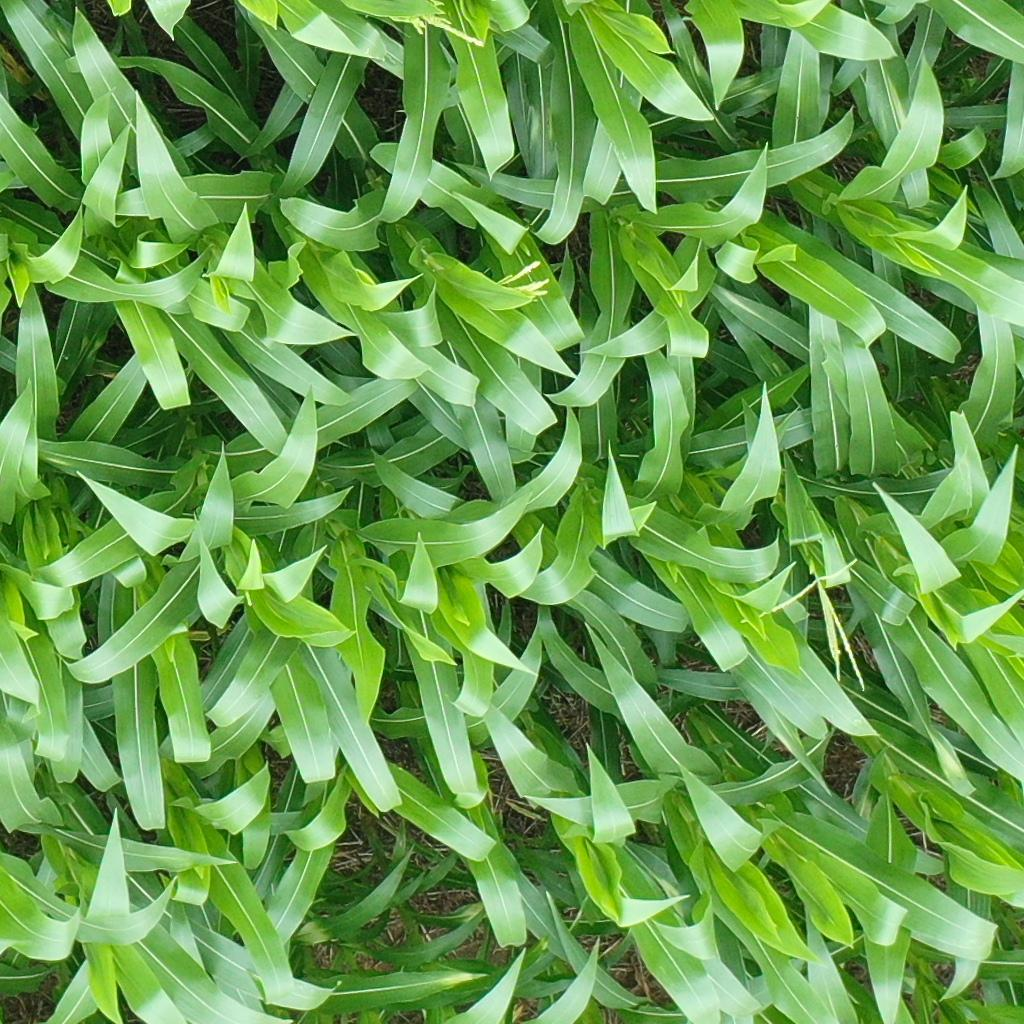Tassel: (741, 554, 869, 693), (383, 1, 489, 49), (493, 253, 551, 308)
